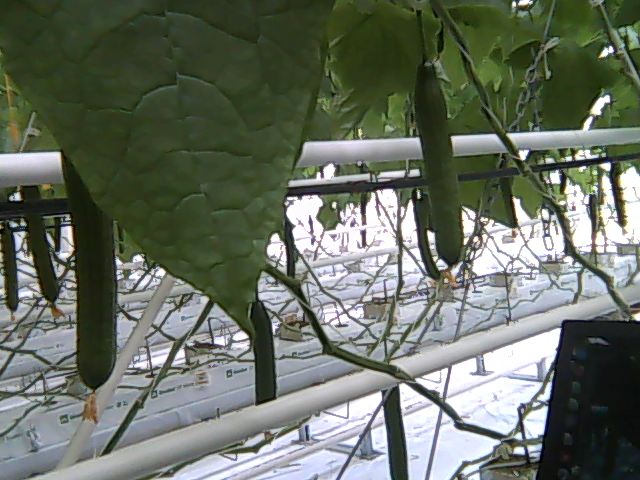concombre: (57, 141, 123, 427), (411, 46, 470, 293)
